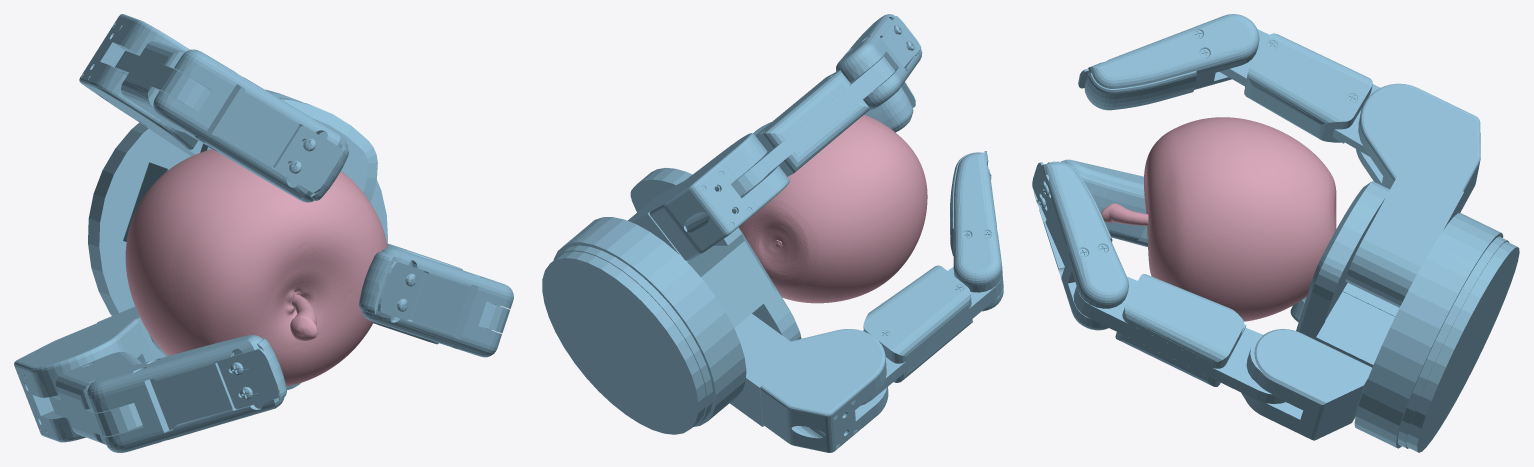
3 views of the same model, side by side, from view 1: azimuth 30°, elevation 25°; view 2: azimuth 150°, elevation 25°; view 3: azimuth 270°, elevation 25° (orthographic). The views are drawn at different scales.
Parts seen in each view (by area): view 1: world, apple.stl; view 2: world, apple.stl; view 3: world, apple.stl.
Boxes of the visible parts, <box> form: world: <box>14,14,513,452</box>; apple.stl: <box>125,149,387,386</box>; world: <box>542,14,1003,452</box>; apple.stl: <box>739,115,927,303</box>; world: <box>1032,14,1519,452</box>; apple.stl: <box>1101,117,1336,321</box>.
Bounding box in the file's own units: 0.1556 × 0.1487 × 0.1809.
